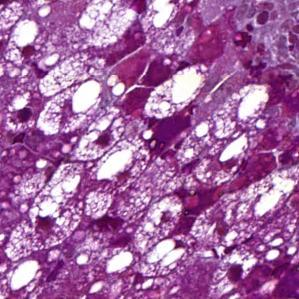ballooning: (2, 158, 88, 261), (34, 77, 105, 140), (140, 62, 209, 123), (131, 191, 186, 254)
